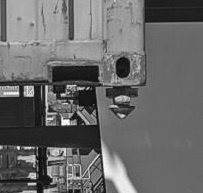twist_lock_2: (100, 79, 145, 125)
